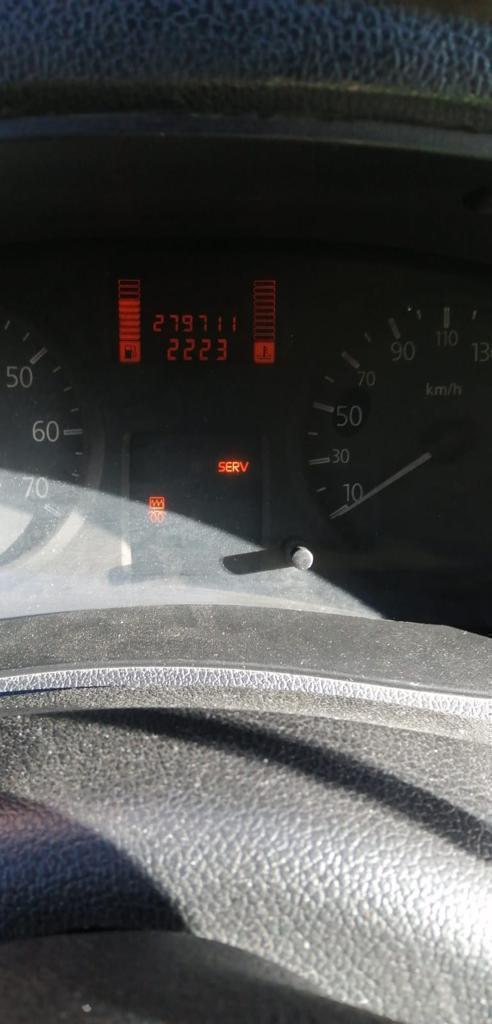1: (231, 316, 237, 334), (217, 315, 222, 333)
2: (182, 338, 196, 361), (166, 337, 179, 360), (199, 337, 211, 361), (151, 312, 164, 332)
3: (216, 337, 227, 361)
7: (169, 313, 179, 331), (199, 314, 208, 331)
9: (182, 314, 193, 333)
odometer: (109, 267, 284, 374)
